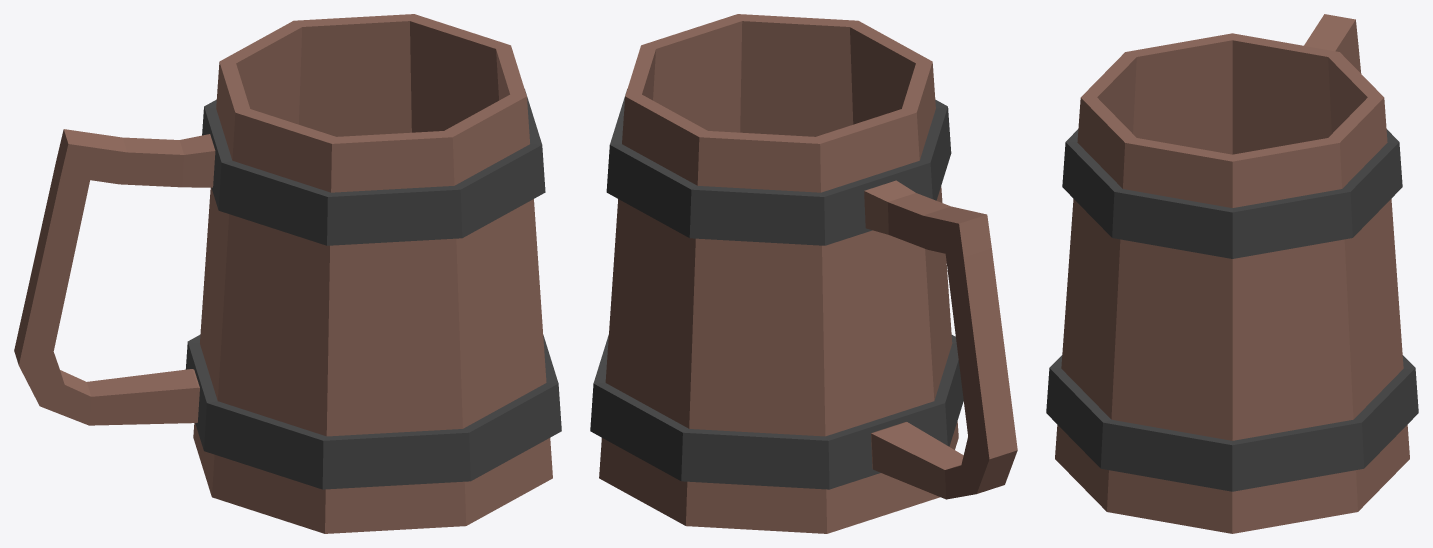
The model's file is BierKrug.fbx.
3 renders of one model, left to right at view 1: azimuth 30°, elevation 25°; view 2: azimuth 150°, elevation 25°; view 3: azimuth 270°, elevation 25°, orthographic. The views are drawn at different scales.
Visible parts, largest first — view 1: Cylinder, Cylinder.002, Cube; view 2: Cylinder, Cylinder.002, Cube; view 3: Cylinder, Cylinder.002, Cube.
Boxes of the visible parts, x1=… form: Cylinder: x1=193, y1=14, x2=552, y2=533; Cylinder.002: x1=185, y1=89, x2=561, y2=489; Cube: x1=14, y1=129, x2=215, y2=425; Cylinder: x1=599, y1=14, x2=958, y2=533; Cylinder.002: x1=590, y1=89, x2=963, y2=489; Cube: x1=864, y1=180, x2=1017, y2=499; Cylinder: x1=1055, y1=33, x2=1409, y2=533; Cylinder.002: x1=1046, y1=129, x2=1418, y2=491; Cube: x1=1304, y1=14, x2=1361, y2=73.
Size of the model in its own units: 257 by 200 by 187.
